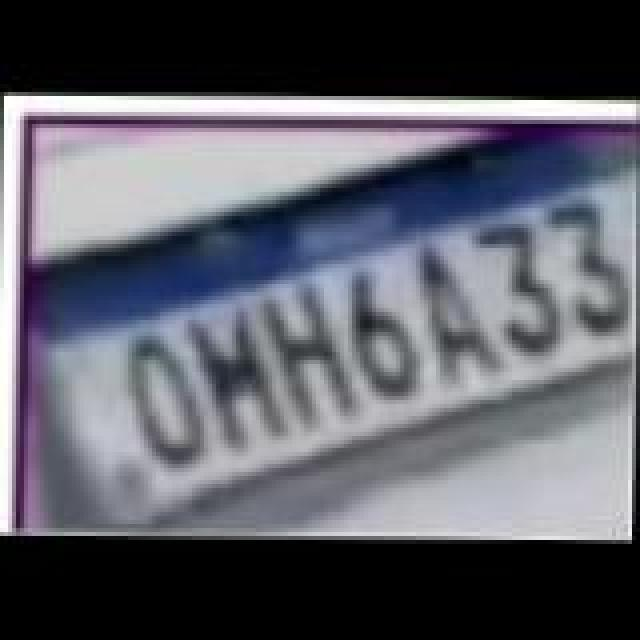3: (476, 224, 568, 360), (546, 200, 634, 336)
6: (344, 276, 428, 404)
A: (412, 246, 504, 386)
H: (254, 284, 366, 432)
M: (190, 308, 298, 452)
O: (122, 338, 214, 474)
